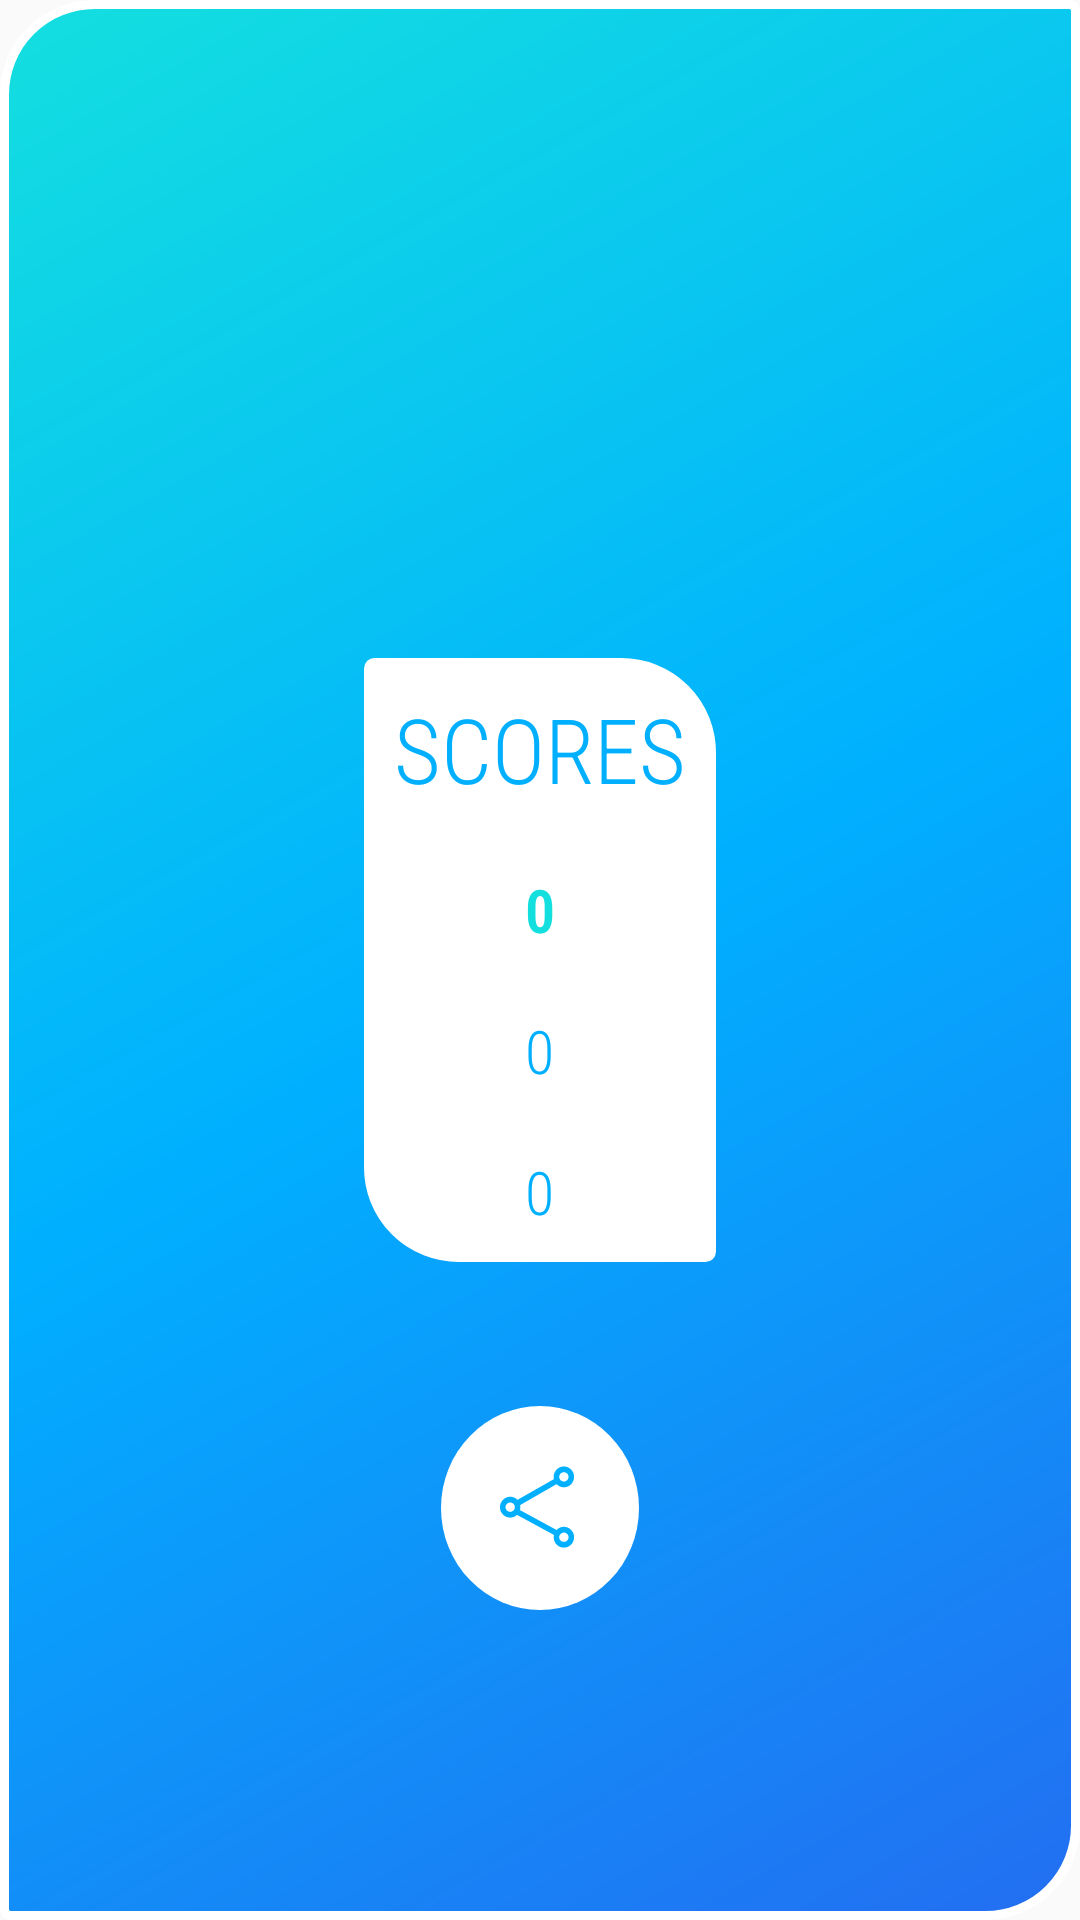

Where to tap for icons on this 1080 x 1920 app screen, as (x,y):
share: (540,1508)
